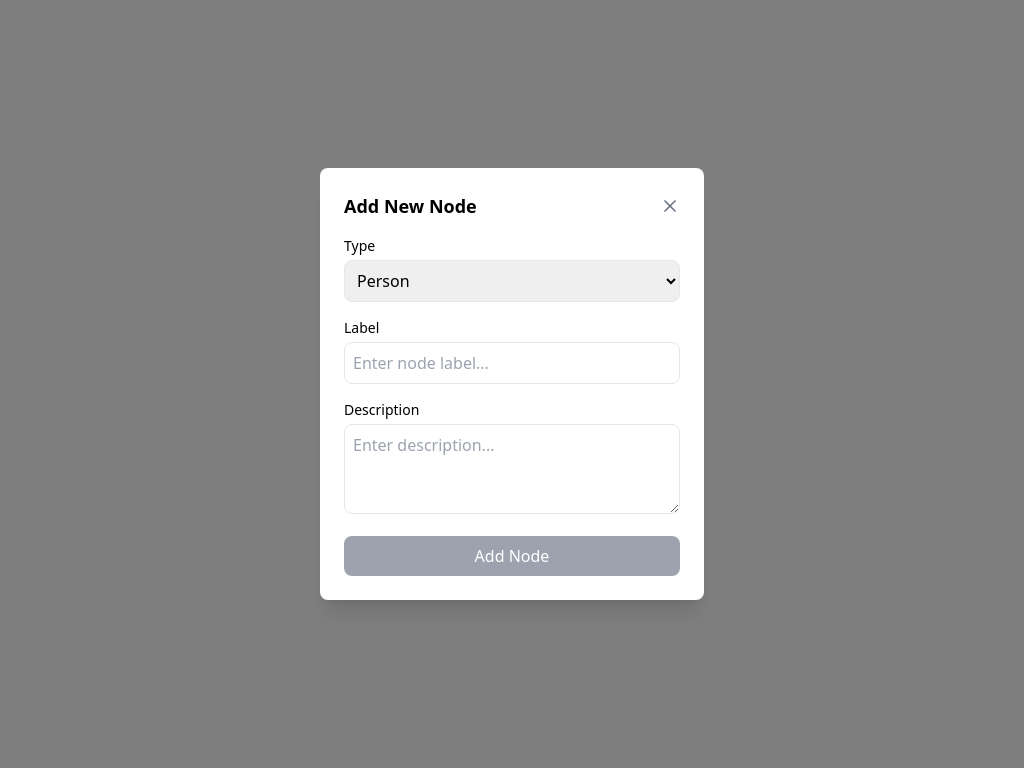
Test: AddNodeModal › Form interactions › should show expiry date field when type is document
The width and height of the screenshot is (1024, 768).
Select "Document" in the dropdown at (512, 281), box [344, 260, 680, 302]
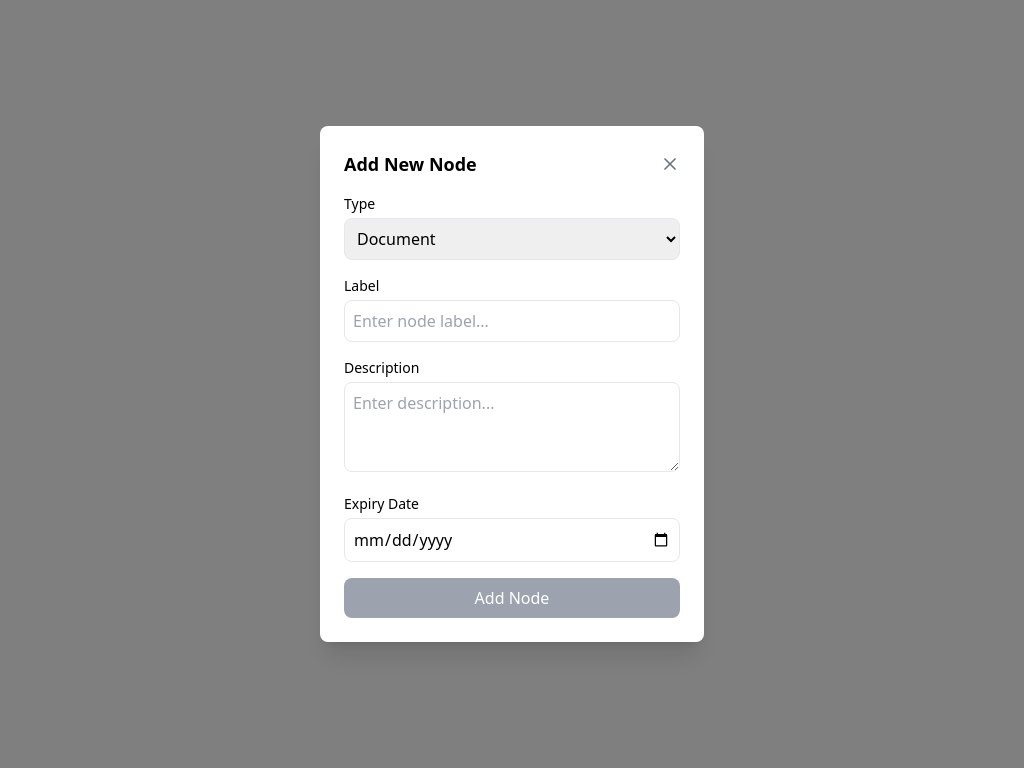
expect the text "Expiry Date" is shown: met, box [344, 494, 419, 513]
expect the date field is shown: met, box [344, 518, 680, 562]
